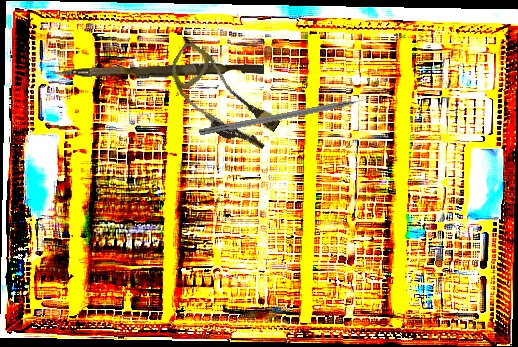Cannula: (153, 39, 290, 160)
Hook Surgical: (198, 94, 381, 138)
Pusher: (52, 58, 265, 85)
